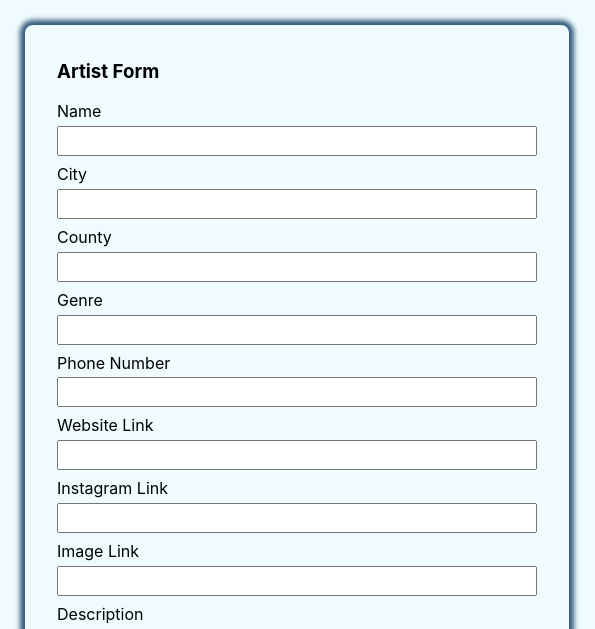
Test: <CreateArtist /> › displays error message when special character is entered in name field
The image size is (595, 629).
Type "djd8327b" into the field with test id "artist-name-input" at (297, 141), box [57, 126, 537, 156]
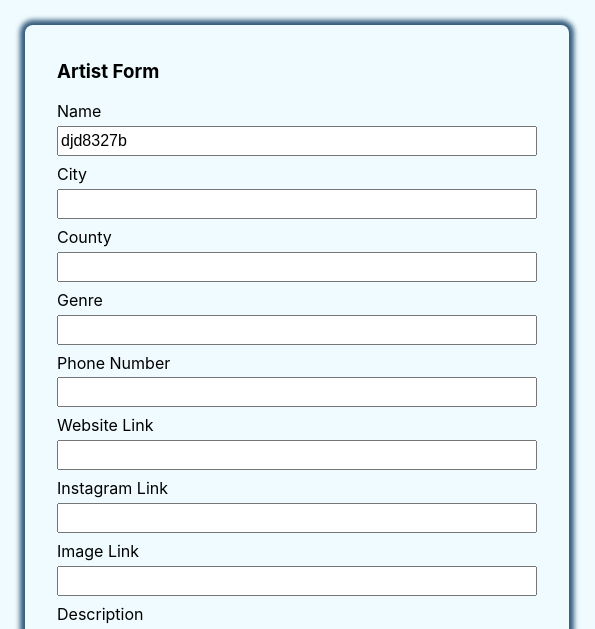
Leave the field with test id "artist-name-input", box [57, 126, 537, 156]
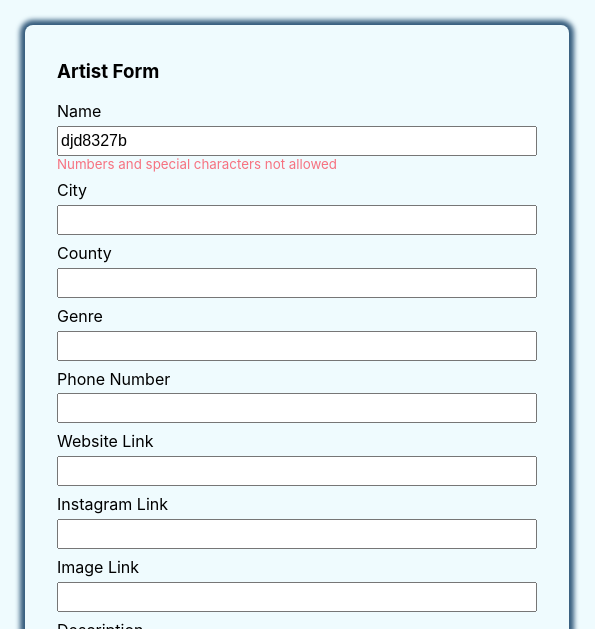
Expected: the text with test id "artist-name-input-error" reads "Numbers and special characters not allowed", [57, 156, 337, 172]
